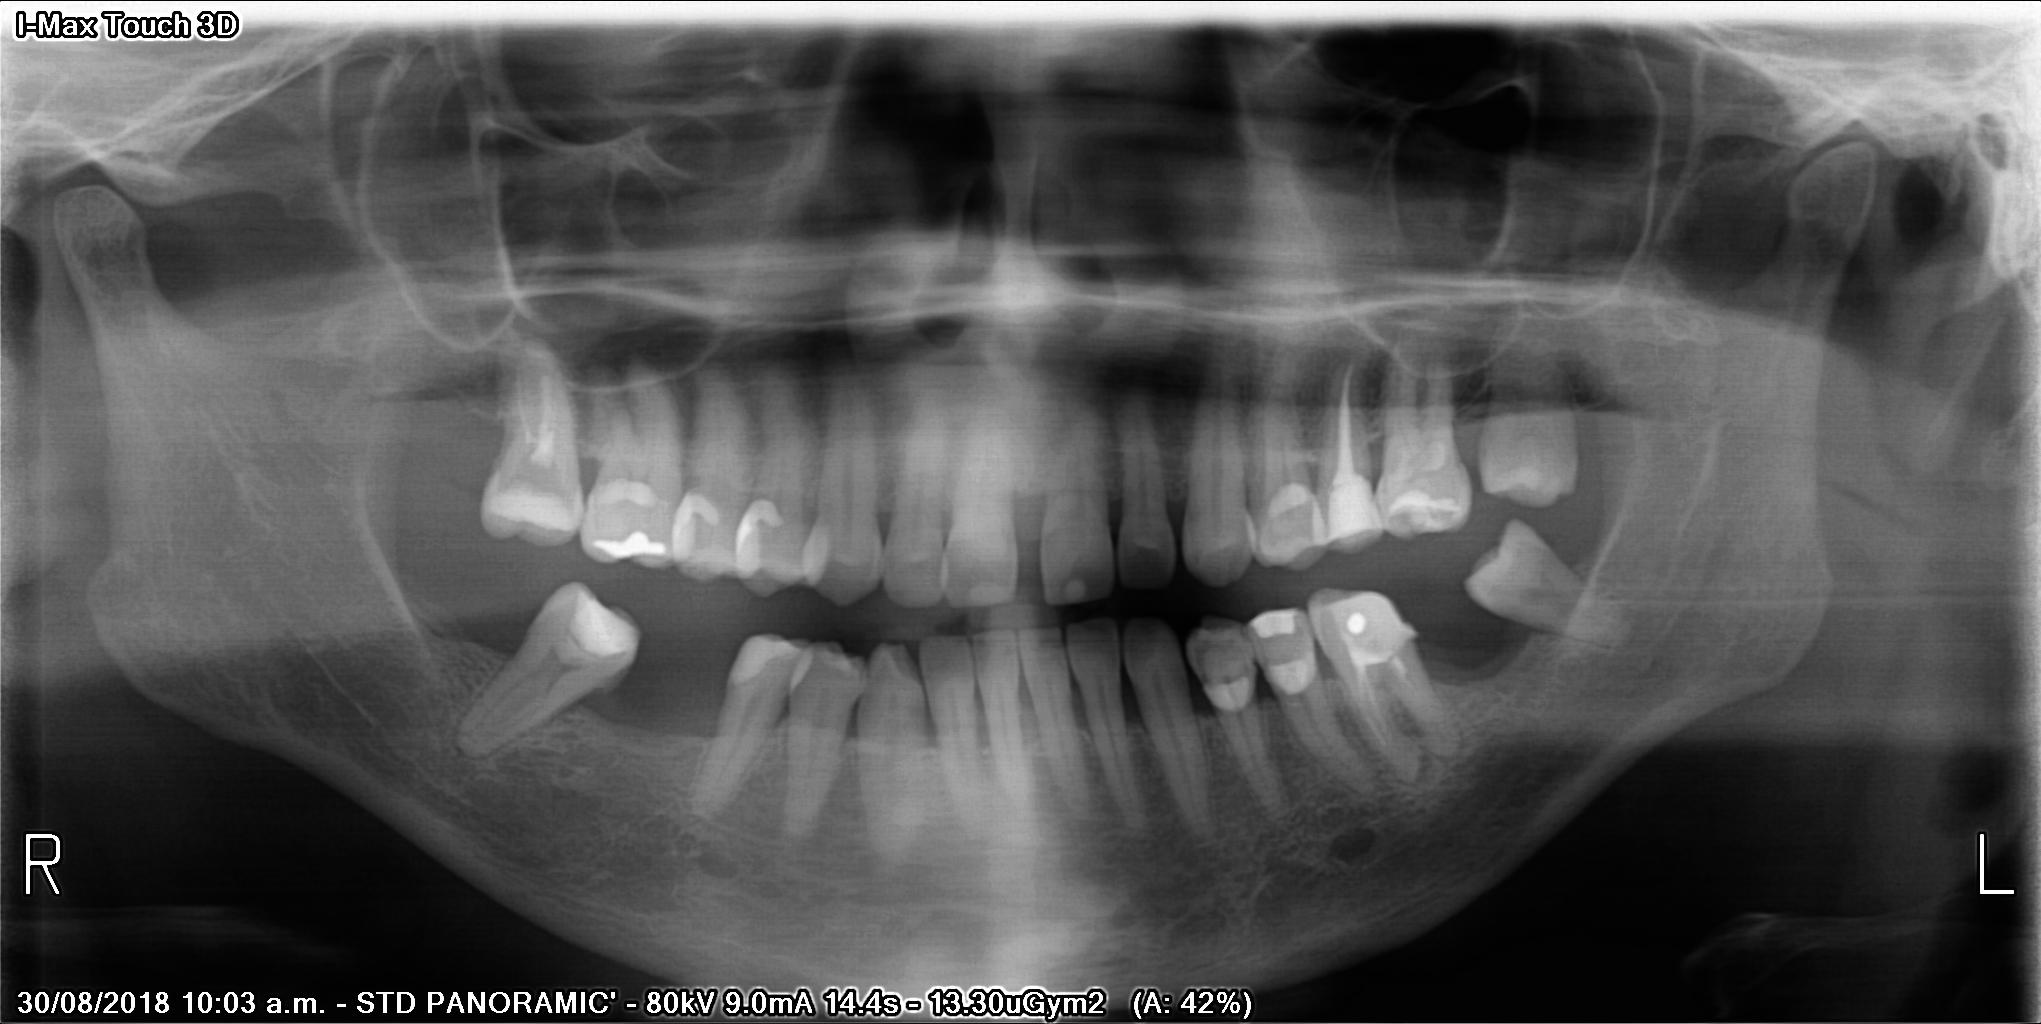Çürük: (1320, 576, 1413, 670), (471, 479, 590, 533), (1250, 486, 1325, 564), (1314, 477, 1374, 552), (565, 592, 636, 654), (1383, 496, 1465, 537), (1263, 644, 1324, 697), (590, 520, 669, 562), (1200, 678, 1258, 714), (1251, 606, 1298, 636)
